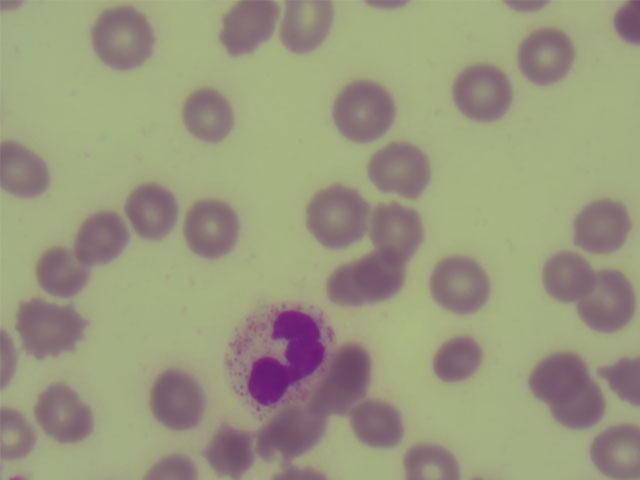RBC: (303, 185, 370, 250), (23, 297, 93, 356), (94, 7, 156, 70), (331, 80, 397, 138), (32, 379, 92, 441), (452, 66, 512, 125), (582, 273, 640, 333), (151, 366, 205, 429), (519, 31, 579, 87), (258, 407, 326, 456), (573, 204, 632, 256), (187, 200, 240, 257), (376, 146, 433, 199), (220, 3, 277, 56), (433, 259, 489, 312), (534, 345, 587, 401), (330, 350, 383, 406), (181, 91, 236, 143), (34, 245, 90, 296), (129, 181, 179, 238), (207, 420, 255, 477), (5, 141, 51, 199), (592, 424, 640, 479), (356, 395, 407, 446), (375, 200, 425, 252), (283, 2, 333, 54), (544, 248, 591, 303), (81, 211, 129, 264), (603, 345, 640, 411), (555, 382, 605, 429), (431, 339, 484, 383), (357, 250, 405, 298), (136, 446, 203, 480), (404, 444, 464, 480), (326, 264, 368, 310), (2, 409, 33, 464), (609, 6, 640, 51), (3, 328, 20, 388)
WBC: (219, 299, 335, 410)
